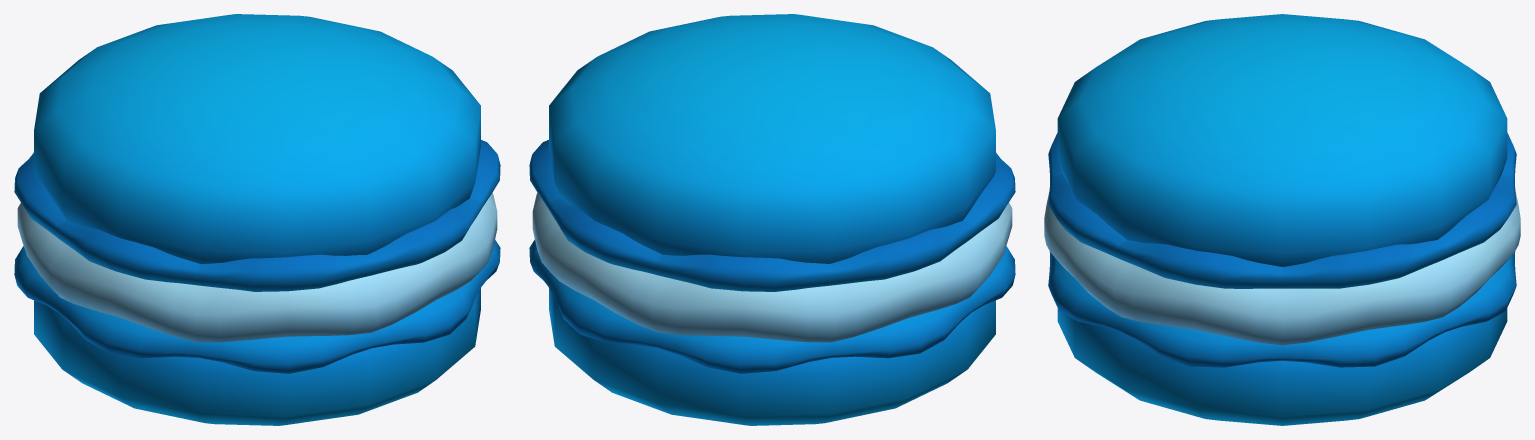
File: Macaron_V1_07.fbx
The picture shows the model from 3 angles, left to right: view 1: azimuth 30°, elevation 25°; view 2: azimuth 150°, elevation 25°; view 3: azimuth 270°, elevation 25°; orthographic projection.
Visible parts, largest first — view 1: Macaron_V1_07; view 2: Macaron_V1_07; view 3: Macaron_V1_07.
Boxes of the visible parts, x1,y1,x2,y2 form: Macaron_V1_07: (14,14,500,425); Macaron_V1_07: (529,14,1015,425); Macaron_V1_07: (1044,14,1520,425).
Size of the model in its own units: 27.03 by 19.94 by 27.03.
